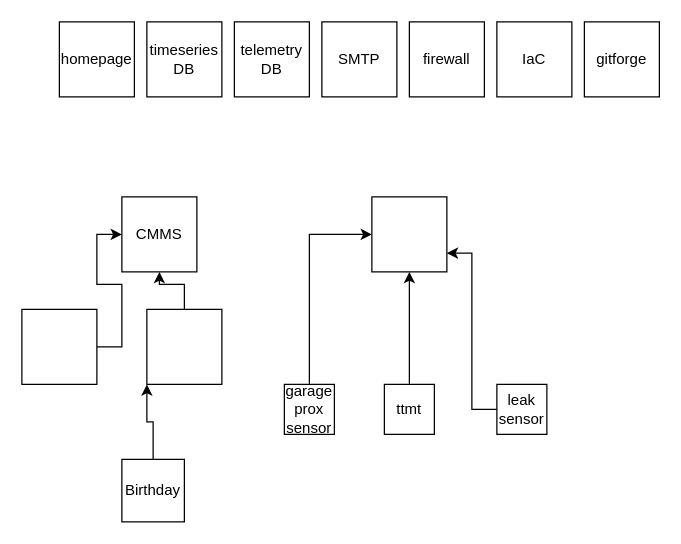
Some shapes in this 681 by 544 pixel diagram are drawn without their labels. Here are the shapes that lost their labels. From the top down, the centre of each, then its label:
point (409, 234): Broker
point (59, 346): Asset
point (184, 346): Being
